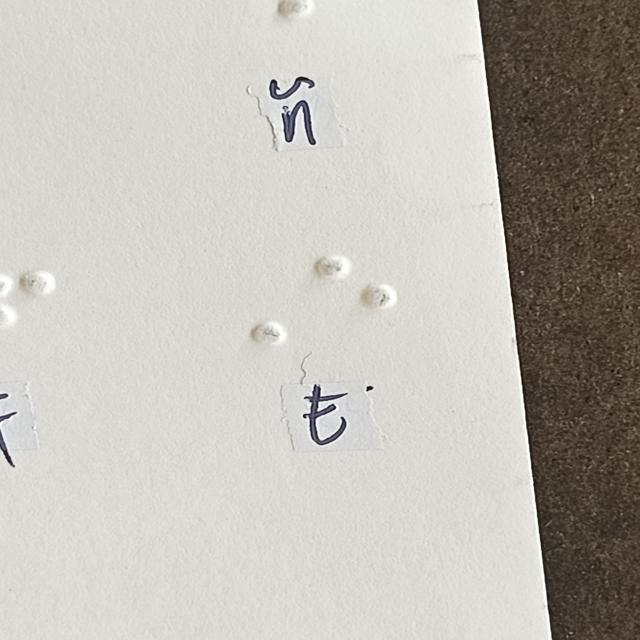E: (315, 255, 397, 344)
capital: (206, 257, 288, 346)
